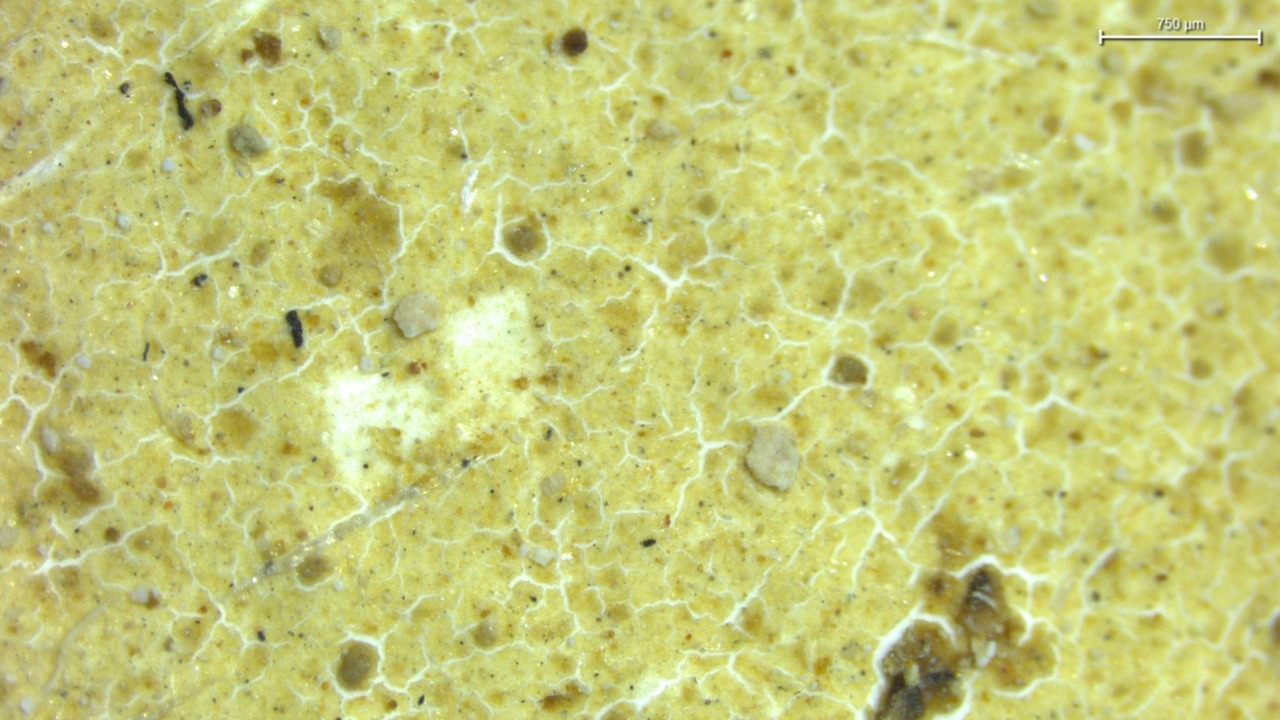microplastic_fragment: (747, 425, 799, 489), (393, 293, 440, 338)
